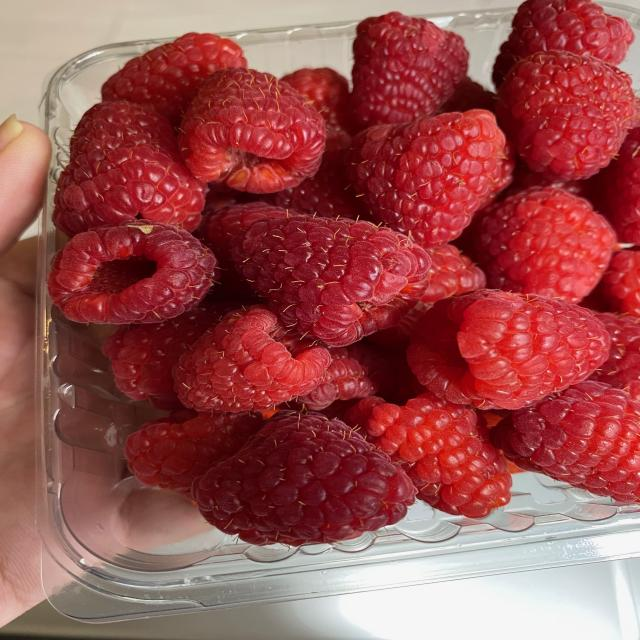raspberries: (54, 7, 640, 578)
